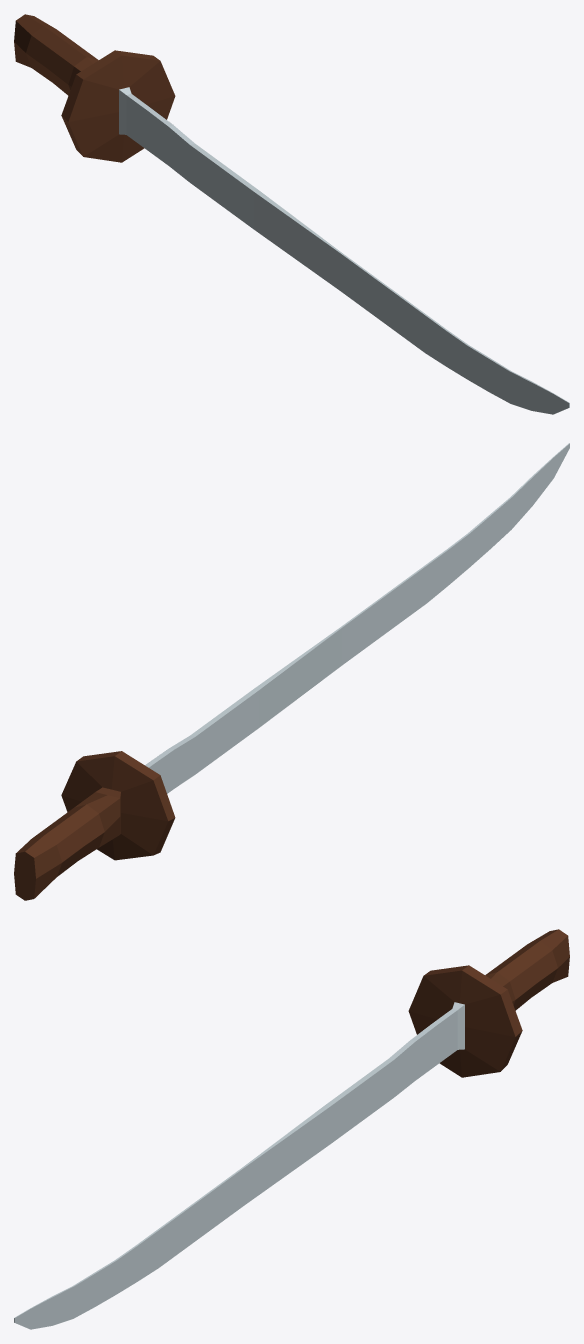
Rendered from Sword1.fbx.
3 views of the same model, one above another, from view 1: azimuth 30°, elevation 25°; view 2: azimuth 150°, elevation 25°; view 3: azimuth 330°, elevation 25° (orthographic).
Visible parts, largest first — view 1: Cube; view 2: Cube; view 3: Cube.
Part boxes in pixels (x1=…): Cube: x1=14, y1=14, x2=569, y2=414; Cube: x1=14, y1=443, x2=569, y2=900; Cube: x1=14, y1=929, x2=569, y2=1329.
Bounding box in the file's own units: 45.83 × 43.87 × 404.
